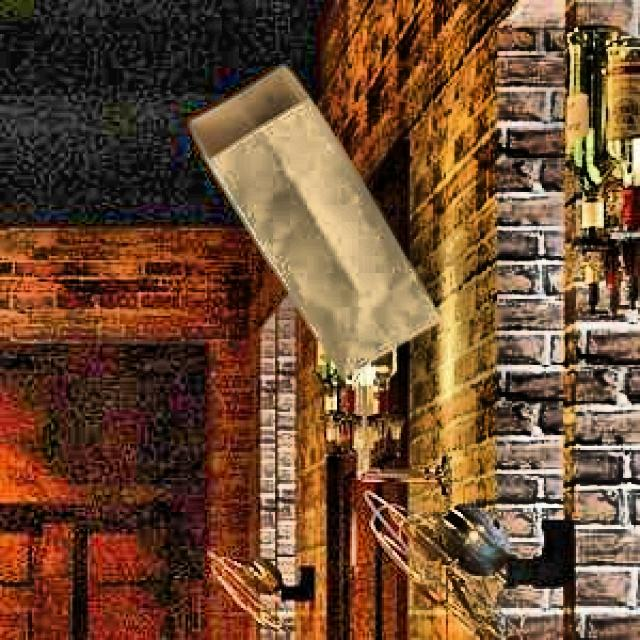Paper-bag: (178, 53, 451, 405)
